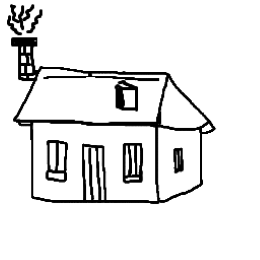chimney: (111, 80, 150, 114)
closed_window: (118, 135, 148, 191), (41, 138, 70, 182), (170, 141, 191, 178)
door: (76, 140, 112, 211)
roof: (11, 61, 226, 133)
smoking_chimney: (2, 3, 52, 81)
wall: (20, 115, 164, 211)
